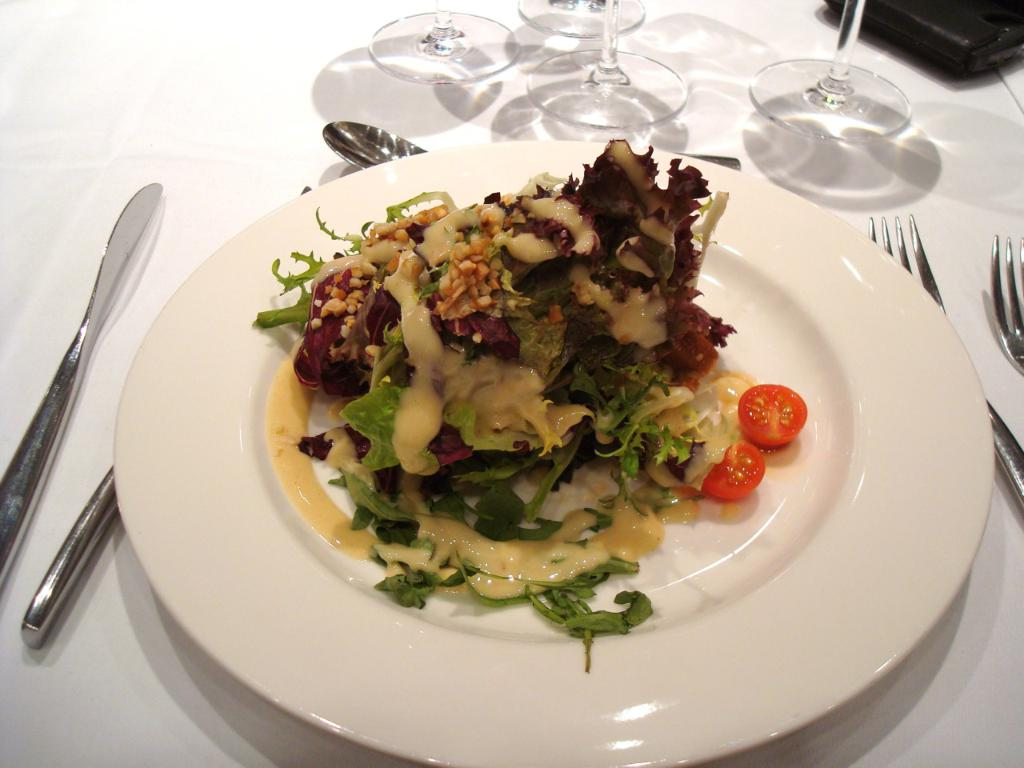salad: (234, 134, 829, 680)
